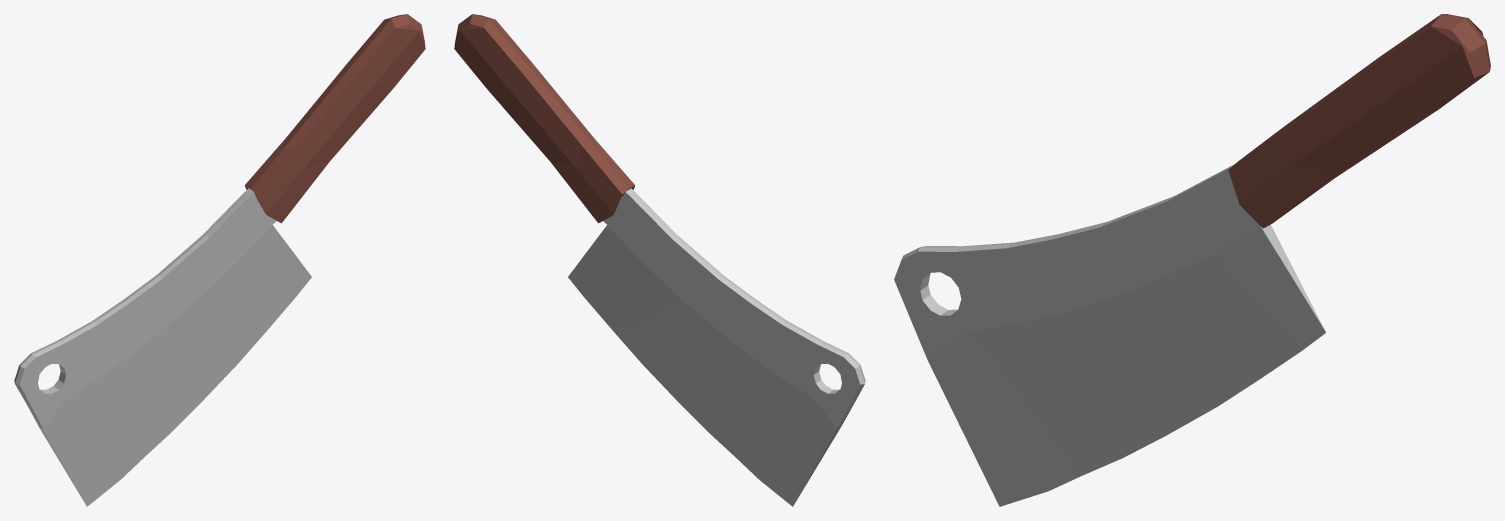
The model's file is Butchers_Knife.fbx.
The picture shows the model from 3 angles, left to right: view 1: azimuth 30°, elevation 25°; view 2: azimuth 150°, elevation 25°; view 3: azimuth 330°, elevation 25°; orthographic projection. The views are drawn at different scales.
Parts seen in each view (by area): view 1: Cube; view 2: Cube; view 3: Cube.
Boxes of the visible parts, left/top/right/bottom form: Cube: left=14, top=14, right=425, bottom=506; Cube: left=454, top=14, right=865, bottom=506; Cube: left=894, top=14, right=1490, bottom=506.
Size of the model in its own units: 0.115 by 0.1112 by 0.00665.
